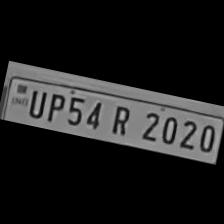0: (194, 118, 218, 154), (156, 110, 180, 144)
2: (132, 104, 162, 141), (174, 114, 200, 150)
4: (81, 95, 108, 131)
5: (61, 90, 87, 126)
P: (42, 87, 66, 123)
R: (103, 98, 135, 136)
U: (22, 84, 48, 118)
